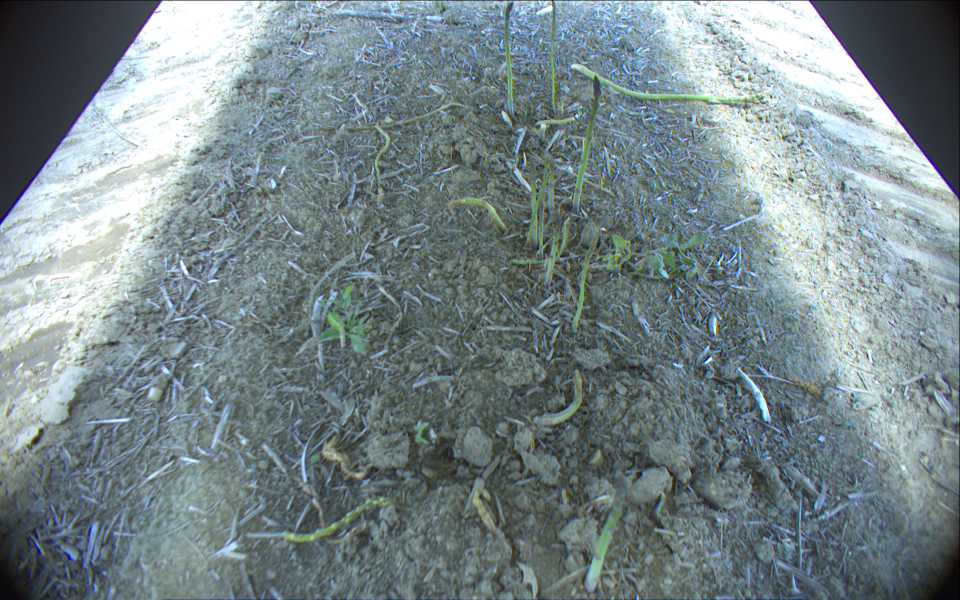aspa: (573, 63, 773, 101), (584, 480, 626, 594), (281, 498, 387, 542), (575, 75, 603, 210), (526, 368, 584, 429), (344, 102, 470, 130), (571, 226, 603, 329), (526, 156, 549, 243), (450, 199, 504, 232), (503, 1, 517, 116), (373, 123, 392, 193), (544, 218, 562, 286), (513, 253, 597, 266), (549, 1, 557, 109), (528, 159, 538, 243), (549, 161, 556, 213), (539, 198, 544, 257)
